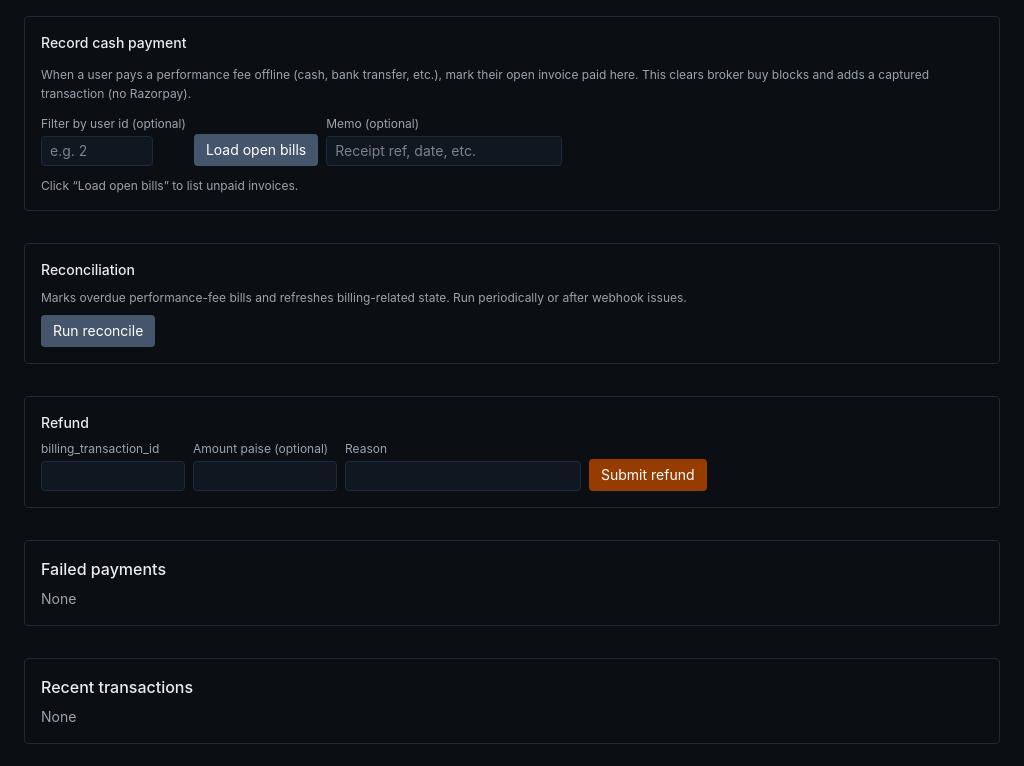
AdminBillingPage › shows empty message when no open bills after load
(page scrolled)
Expected: the heading "Record cash payment" is shown, [41,34,186,51]
Click the button "Load open bills".
click(256, 150)  # box [194,134,318,166]
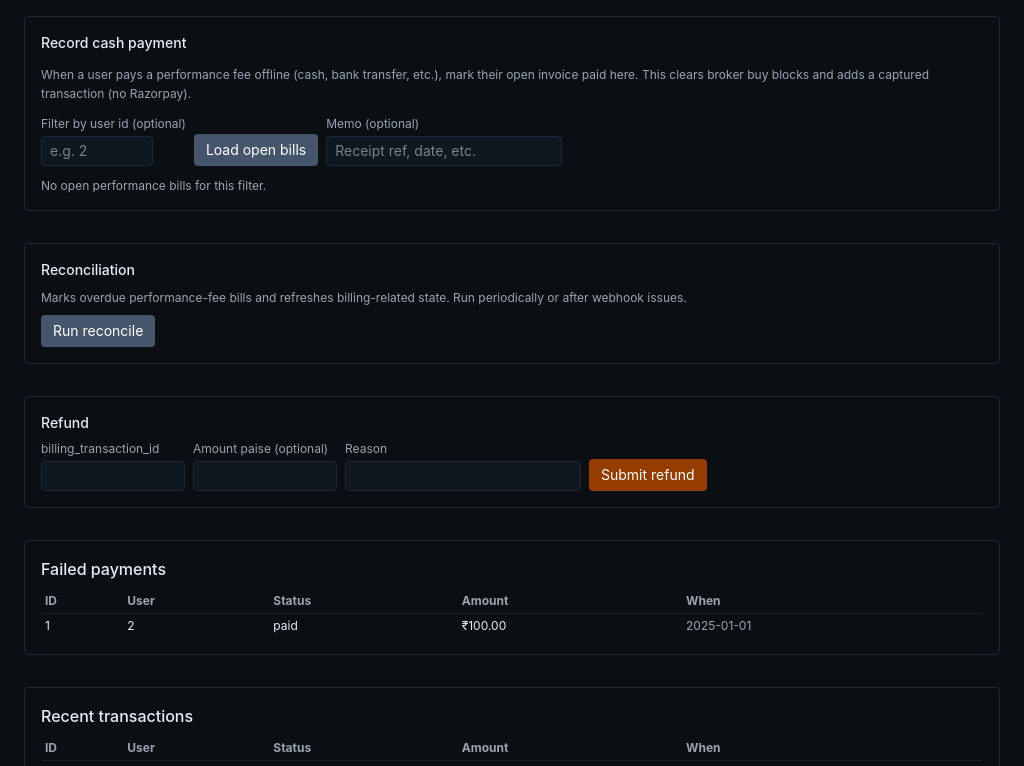
Now the text "No open performance bills for this filter." is shown, box [41,178,266,192]
